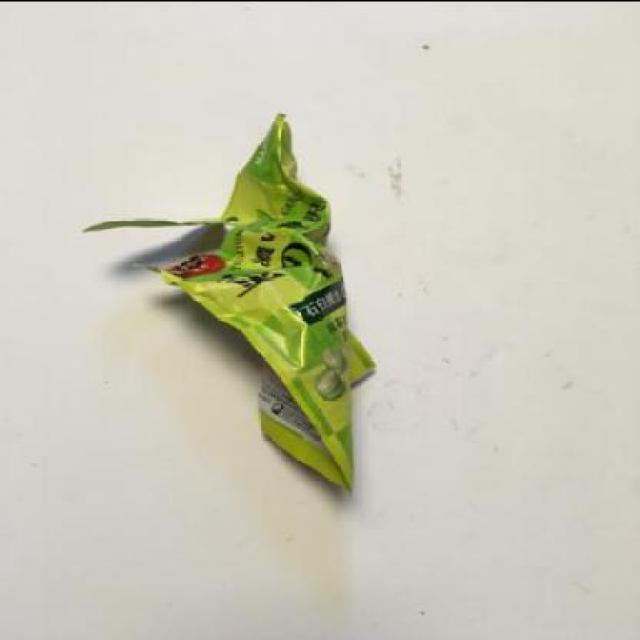PLASTIC: (83, 110, 379, 496)
